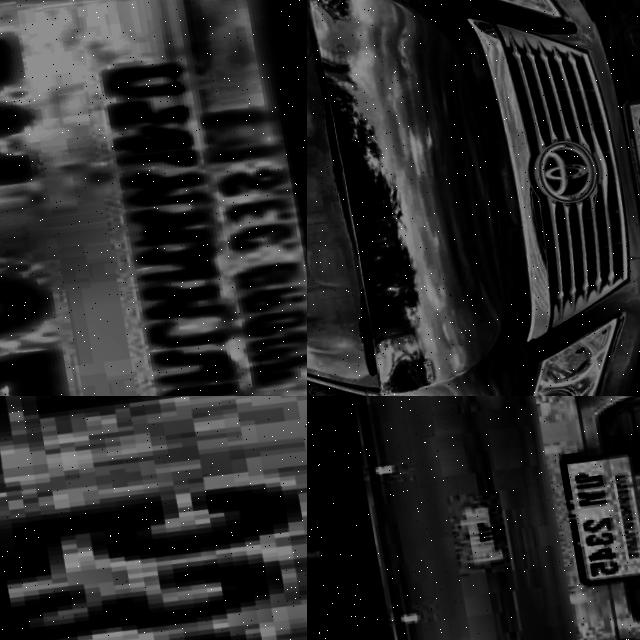license-plate: (0, 0, 307, 396), (0, 396, 307, 640), (538, 435, 640, 593), (617, 84, 640, 225)
